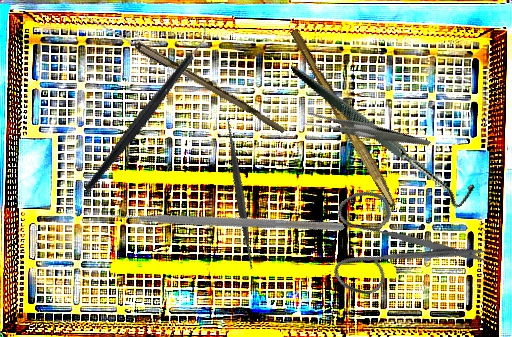Chopper: (98, 102, 346, 326), (43, 21, 249, 193)
Dressing Forceps: (303, 82, 431, 183)
Hook Surgical: (290, 18, 480, 247)
Iris Scissors: (303, 148, 497, 335)
Scalpel Handle: (285, 27, 403, 209)
Spatula Surgical: (158, 112, 322, 275)
Surgical Spoon: (80, 11, 289, 134)
